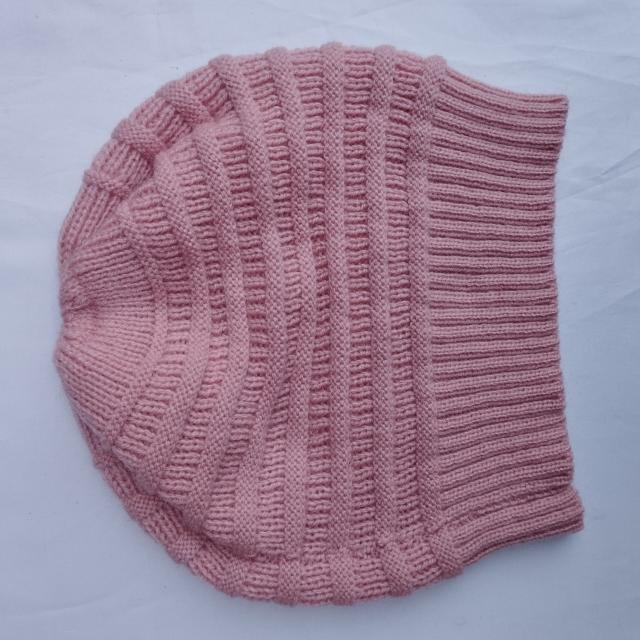Gorro: (53, 41, 585, 608)
